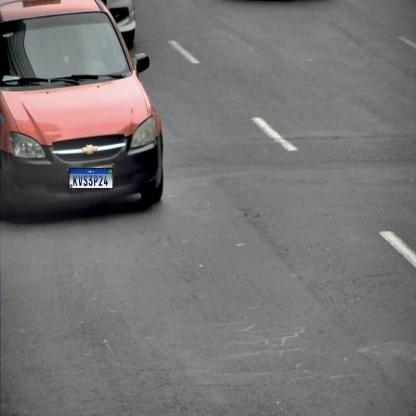PlacaM: (69, 168, 113, 189)
